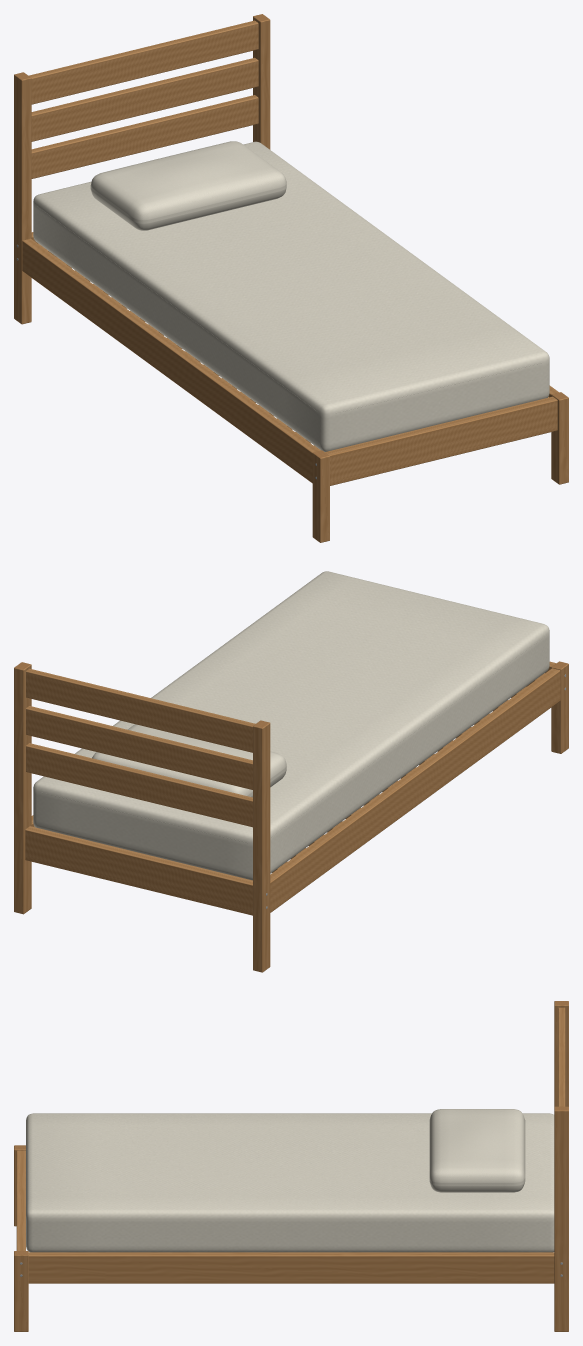
The model's file is bed.glb.
3 renders of one model, top to bottom at view 1: azimuth 30°, elevation 25°; view 2: azimuth 150°, elevation 25°; view 3: azimuth 270°, elevation 25°, orthographic. The views are drawn at different scales.
Visible parts, largest first — view 1: Supported mattress, Side rail -0.47, Cotton pillow, End rail -1.0175, Headboard horizontal 0.86, Headboard horizontal 0.58, Headboard horizontal 0.72, Headboard post -0.47, Headboard post 0.47, Foot post -0.47, Foot post 0.47; view 2: Supported mattress, Side rail -0.47, End rail 1.0175, Headboard horizontal 0.86, Headboard horizontal 0.58, Headboard horizontal 0.72, Headboard post -0.47, Headboard post 0.47, Cotton pillow, Foot post -0.47, Mattress upper welt; view 3: Supported mattress, Side rail 0.47, Cotton pillow, Headboard post 0.47, Foot post 0.47, End rail -1.0175, Headboard post -0.47, Headboard horizontal 0.86, Mattress upper welt.
Boxes of the visible parts, x1,y1,x2,y2 form: Supported mattress: [33, 141, 549, 451]; Side rail -0.47: [22, 238, 319, 483]; Cotton pillow: [90, 141, 286, 230]; End rail -1.0175: [325, 396, 557, 485]; Headboard horizontal 0.86: [29, 20, 258, 104]; Headboard horizontal 0.58: [31, 95, 258, 178]; Headboard horizontal 0.72: [31, 57, 258, 141]; Headboard post -0.47: [14, 72, 31, 324]; Headboard post 0.47: [253, 14, 270, 149]; Foot post -0.47: [312, 450, 329, 542]; Foot post 0.47: [551, 392, 568, 484]; Supported mattress: [33, 571, 549, 880]; Side rail -0.47: [270, 668, 560, 912]; End rail 1.0175: [25, 826, 252, 915]; Headboard horizontal 0.86: [26, 668, 255, 752]; Headboard horizontal 0.58: [26, 743, 252, 827]; Headboard horizontal 0.72: [26, 706, 252, 789]; Headboard post -0.47: [253, 720, 270, 972]; Headboard post 0.47: [14, 662, 31, 914]; Cotton pillow: [92, 724, 286, 797]; Foot post -0.47: [551, 661, 568, 753]; Mattress upper welt: [40, 635, 546, 843]; Supported mattress: [26, 1113, 554, 1252]; Side rail 0.47: [28, 1252, 554, 1283]; Cotton pillow: [429, 1109, 525, 1192]; Headboard post 0.47: [554, 1106, 568, 1331]; Foot post 0.47: [14, 1251, 28, 1331]; End rail -1.0175: [16, 1150, 25, 1250]; Headboard post -0.47: [554, 1001, 568, 1106]; Headboard horizontal 0.86: [558, 1007, 565, 1106]; Mattress upper welt: [36, 1219, 546, 1219].
Bounding box in the file's own units: 0.982 × 0.92 × 2.09.
Materials: 4 (3 with a texture image).
